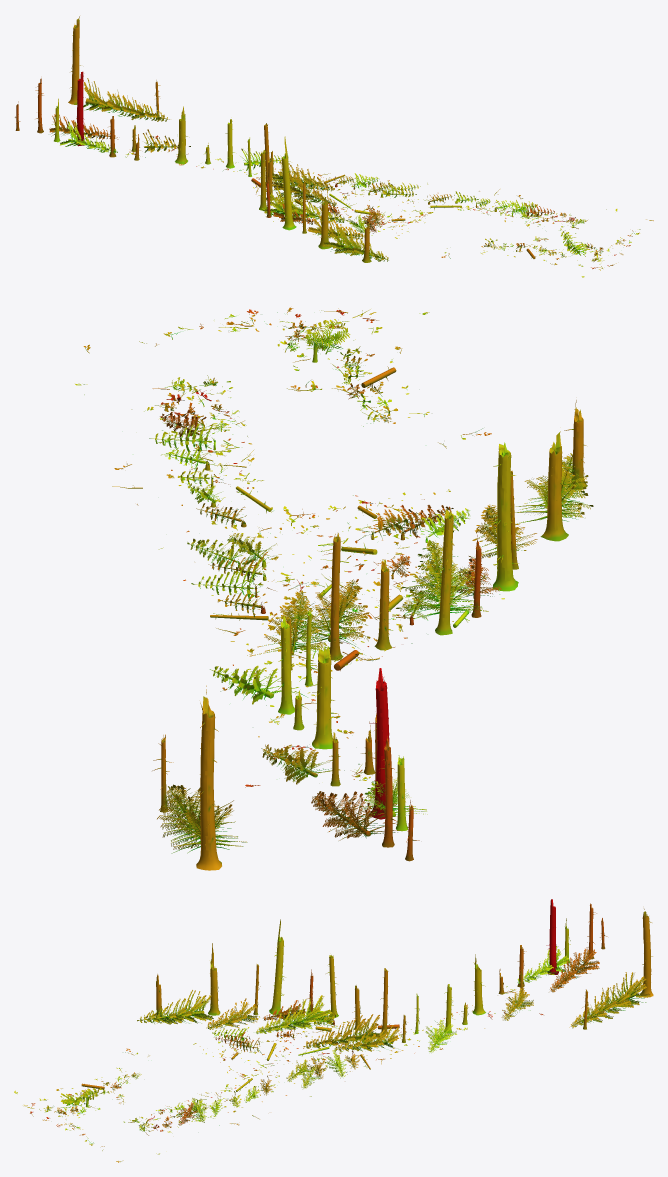
The model's file is trees.glb.
The picture shows the model from 3 angles, top to bottom: view 1: azimuth 30°, elevation 25°; view 2: azimuth 150°, elevation 25°; view 3: azimuth 270°, elevation 25°; orthographic projection. The views are drawn at different scales.
Parts seen in each view (by area): view 1: crash_needles, crash_bark; view 2: crash_bark, crash_needles, crash_wood.001, crash_wood; view 3: crash_needles, crash_bark.
Boxes of the visible parts, x1=… form: crash_needles: x1=49, y1=78, x2=653, y2=277; crash_bark: x1=15, y1=20, x2=646, y2=276; crash_bark: x1=83, y1=307, x2=589, y2=870; crash_needles: x1=75, y1=308, x2=593, y2=849; crash_wood.001: x1=162, y1=343, x2=581, y2=857; crash_wood: x1=161, y1=331, x2=583, y2=836; crash_needles: x1=14, y1=946, x2=650, y2=1162; crash_bark: x1=25, y1=899, x2=653, y2=1160.
Size of the model in its own units: 77.36 by 18.39 by 104.
